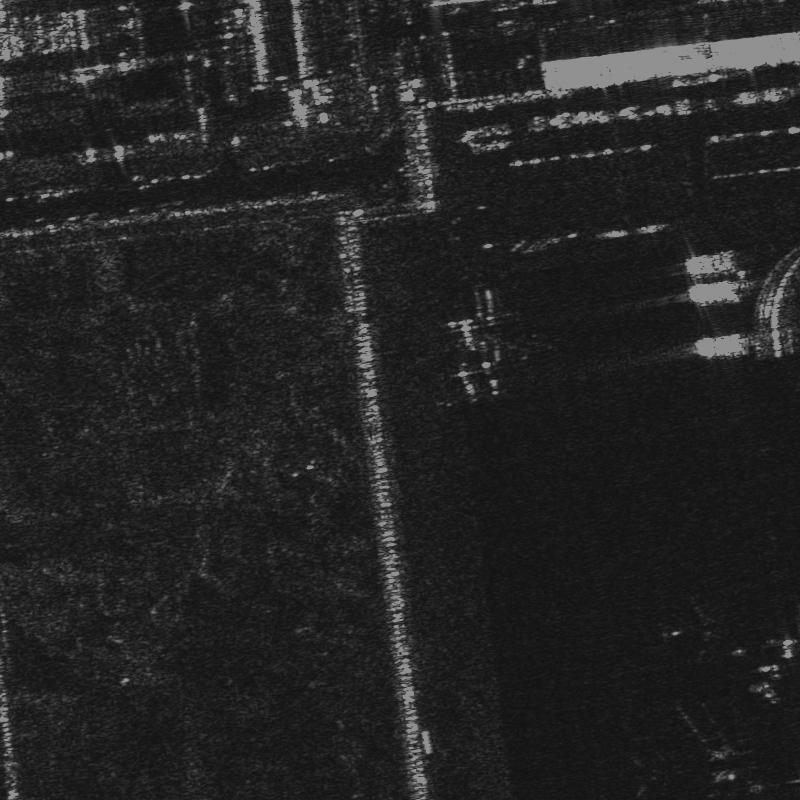Boeing787: (628, 696, 757, 799), (653, 589, 730, 662)
other: (428, 309, 520, 405)
